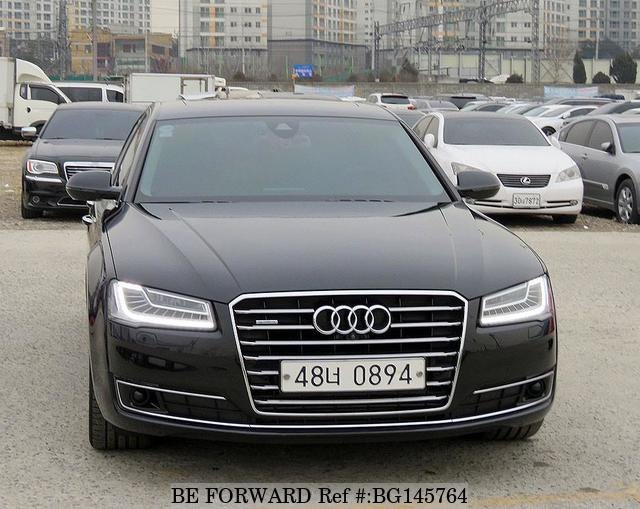audi: (309, 302, 401, 338)
